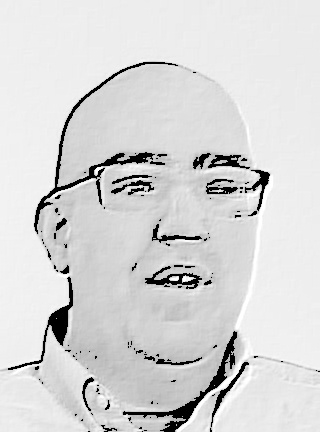nose_M_C: (151, 185, 213, 260)
